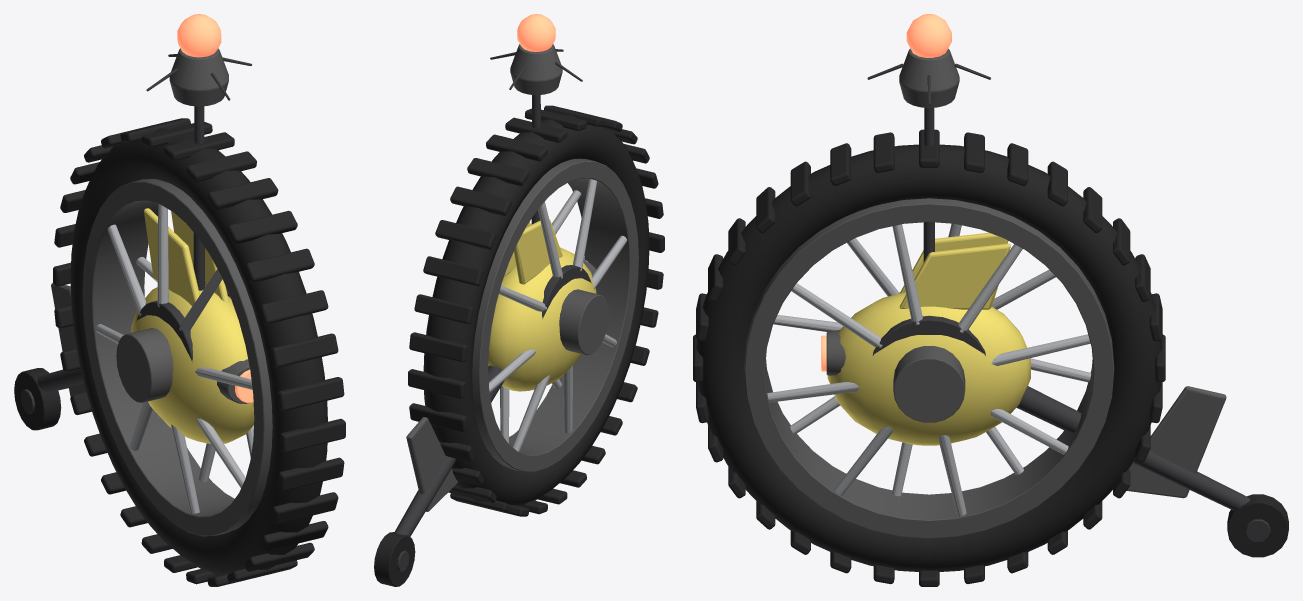
The model's file is speedstar.glb.
3 views of the same model, side by side, from view 1: azimuth 30°, elevation 25°; view 2: azimuth 150°, elevation 25°; view 3: azimuth 270°, elevation 25° (orthographic). The views are drawn at different scales.
Visible parts, largest first — view 1: Body; view 2: Body; view 3: Body.
Boxes of the visible parts, x1=… form: Body: x1=14, y1=14, x2=345, y2=586; Body: x1=374, y1=14, x2=664, y2=586; Body: x1=693, y1=14, x2=1288, y2=586.
Size of the model in its own units: 0.3 by 1.19 by 1.16.
